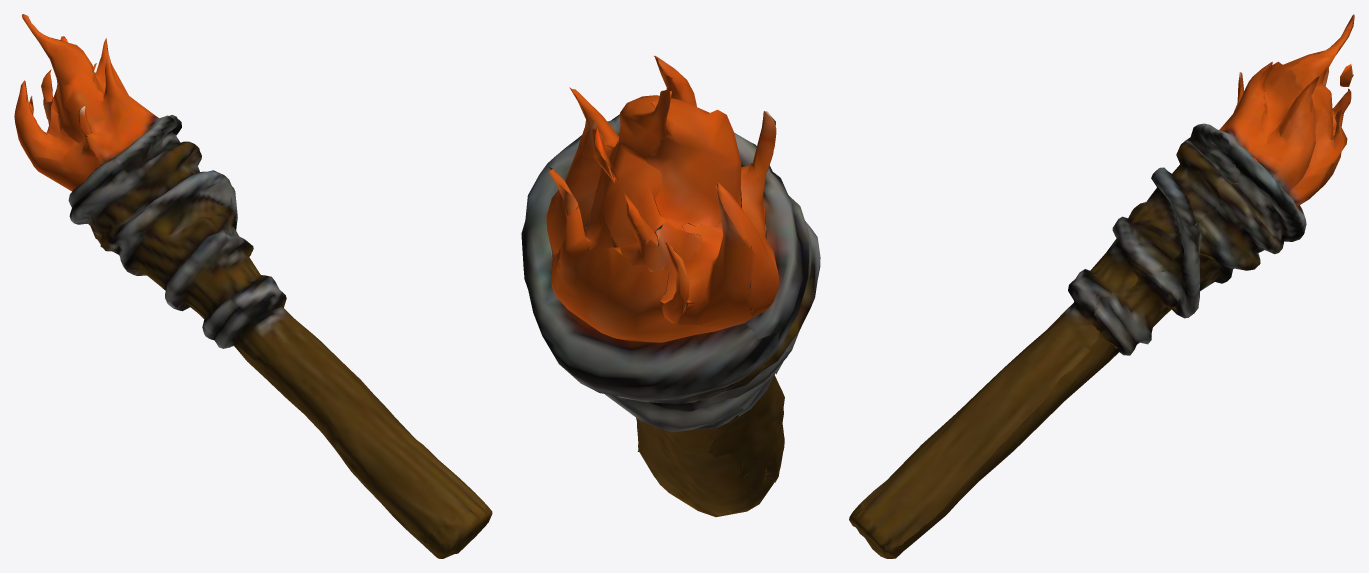
Rendered from torcia.glb.
The picture shows the model from 3 angles, left to right: view 1: azimuth 30°, elevation 25°; view 2: azimuth 150°, elevation 25°; view 3: azimuth 270°, elevation 25°; orthographic projection. The views are drawn at different scales.
Visible parts, largest first — view 1: torcia; view 2: torcia; view 3: torcia.
Boxes of the visible parts, bbox=[...] form: torcia: bbox=[14, 14, 492, 558]; torcia: bbox=[521, 56, 820, 517]; torcia: bbox=[849, 14, 1354, 558].
Size of the model in its own units: 0.1657 by 0.2553 by 0.2653.
1 material, 1 textured.
